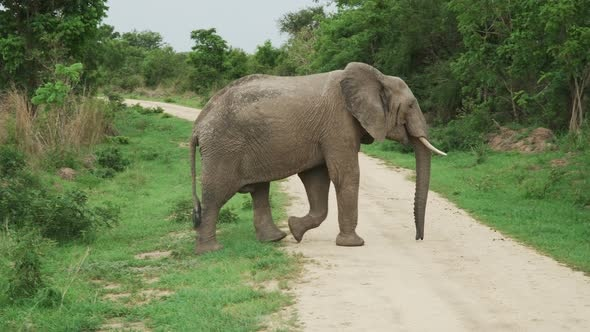elephant: (311, 156, 560, 332)
